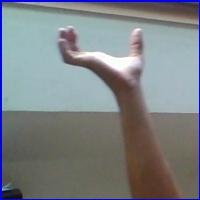B: (49, 19, 157, 87)
